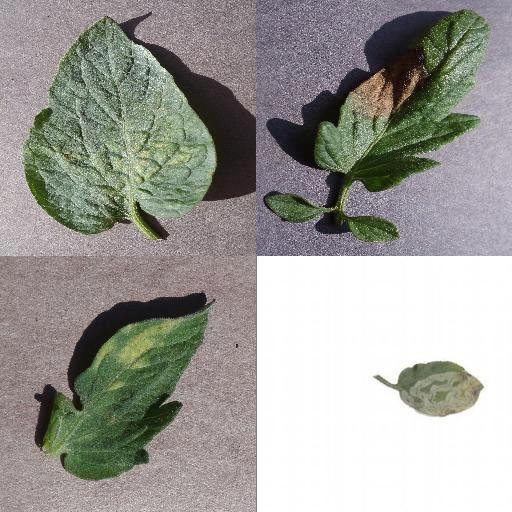Late Blight: (316, 8, 490, 192)
Leaf Miner: (395, 363, 483, 420)
Leaf Mold: (42, 309, 208, 481)
Spider Mites: (22, 14, 218, 234)
